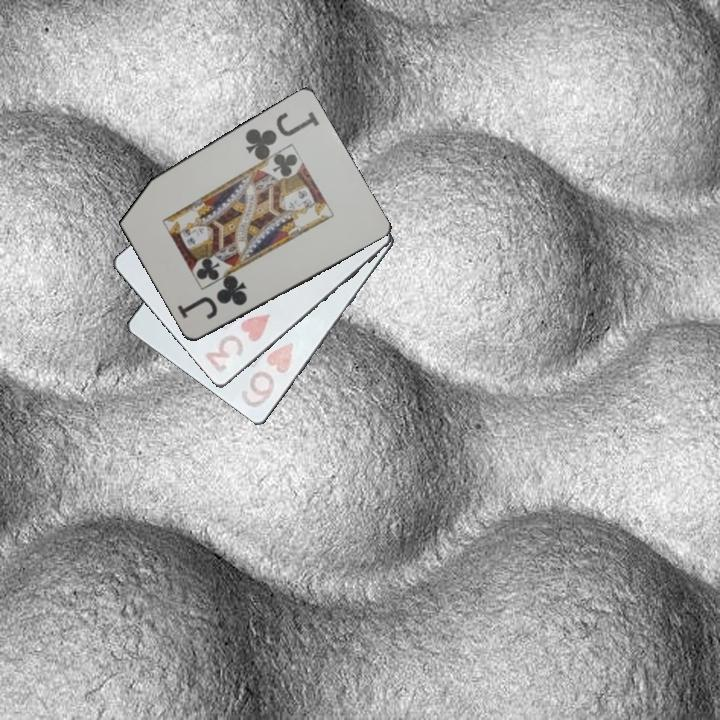3h: (201, 311, 273, 377)
6h: (236, 339, 300, 414)
Jc: (241, 108, 322, 163), (175, 274, 250, 323)
